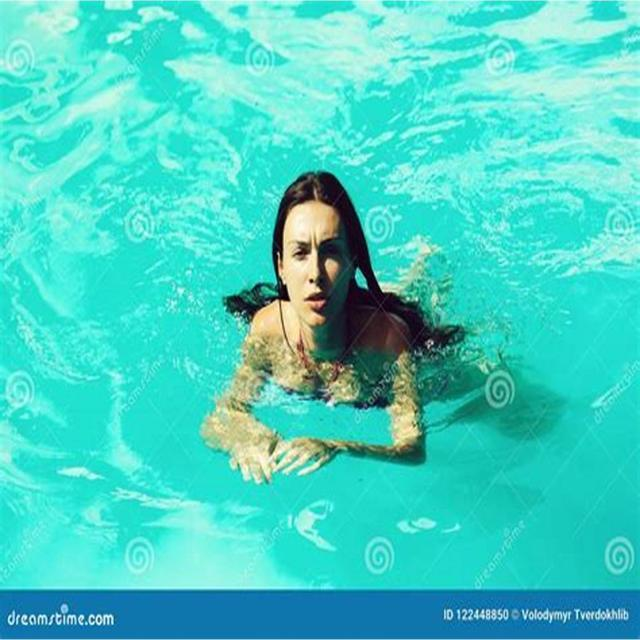Swimming: (194, 171, 469, 484)
